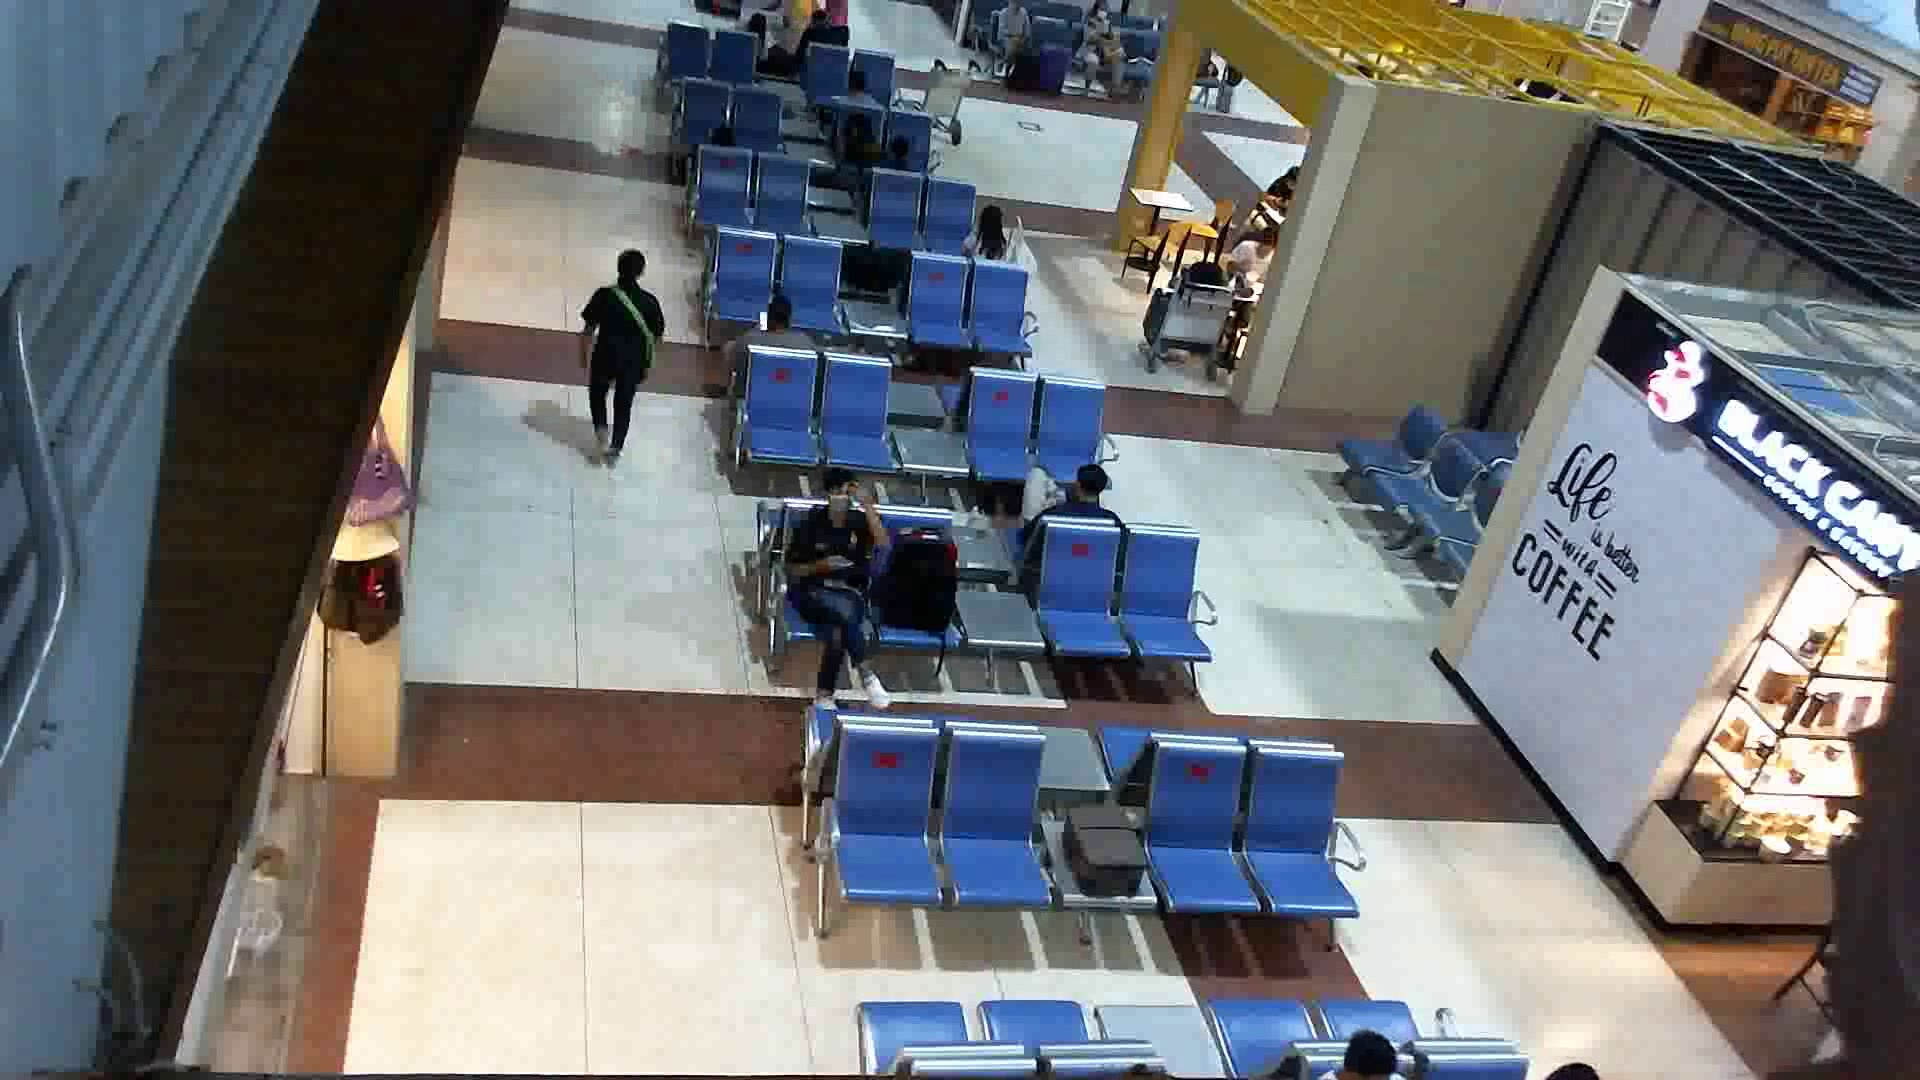luggage: (1049, 792, 1158, 917), (880, 527, 964, 649)
people: (770, 465, 903, 750), (573, 230, 684, 466)
